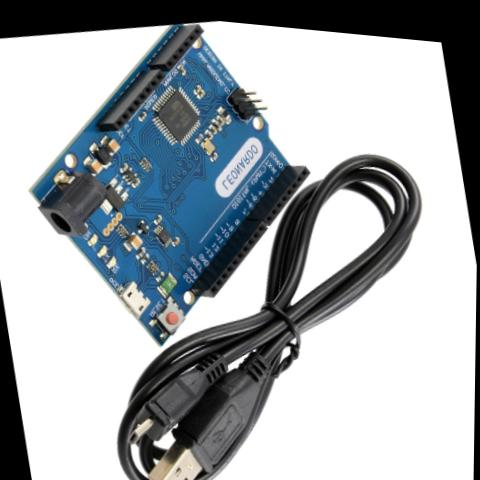Arduino-Leonardo: (0, 0, 346, 389)
